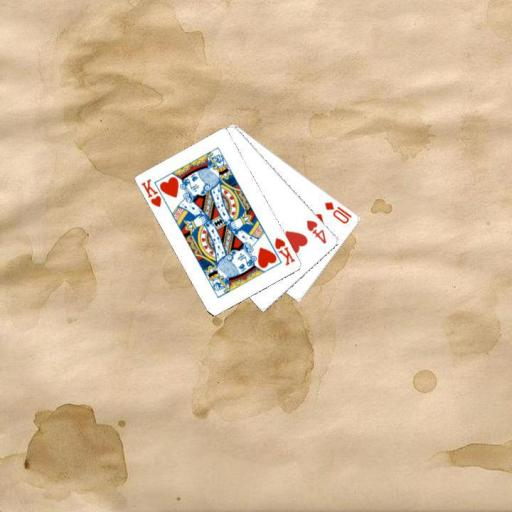10D: (322, 199, 354, 226)
4H: (304, 217, 329, 245)
KH: (139, 176, 164, 209), (272, 235, 297, 267)
